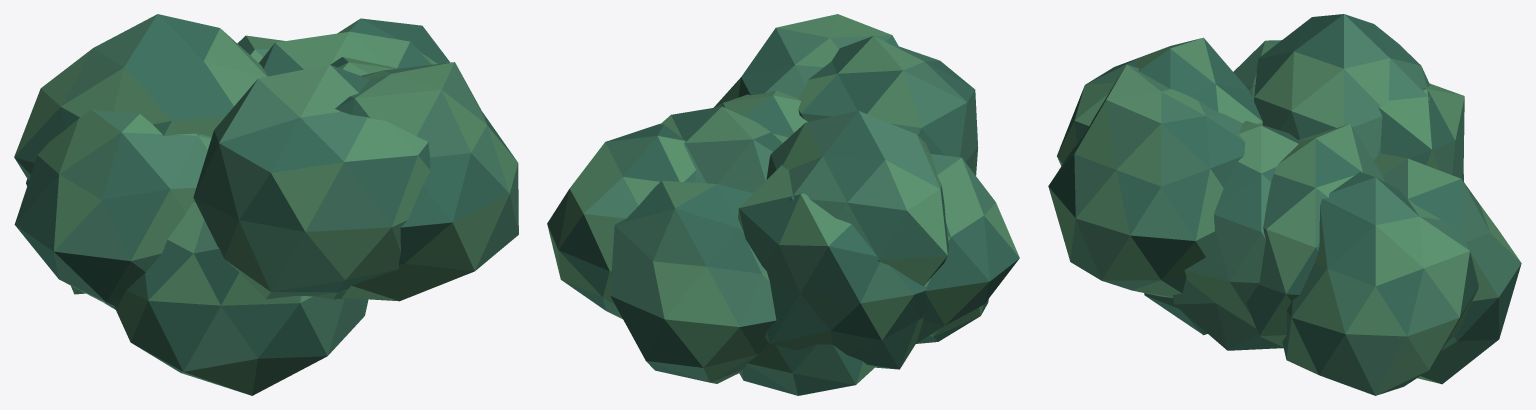
File: bush_clump.glb
3 renders of one model, left to right at view 1: azimuth 30°, elevation 25°; view 2: azimuth 150°, elevation 25°; view 3: azimuth 270°, elevation 25°, orthographic. The views are drawn at different scales.
Parts seen in each view (by area): view 1: bush_clump; view 2: bush_clump; view 3: bush_clump.
Part boxes in pixels (x1,y1,x2,y2): bush_clump: (14,14,518,395); bush_clump: (547,14,1019,395); bush_clump: (1048,14,1521,395).
Bounding box in the file's own units: 1.57 × 1.06 × 1.45.
